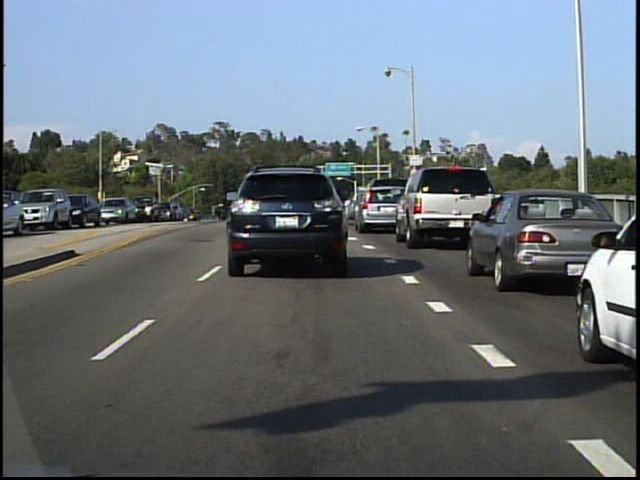car: (469, 183, 595, 291), (571, 199, 640, 385), (227, 173, 346, 279), (400, 162, 485, 249), (352, 181, 411, 237), (15, 187, 72, 233), (68, 193, 103, 228), (103, 197, 134, 224)
strada: (9, 270, 628, 469)
